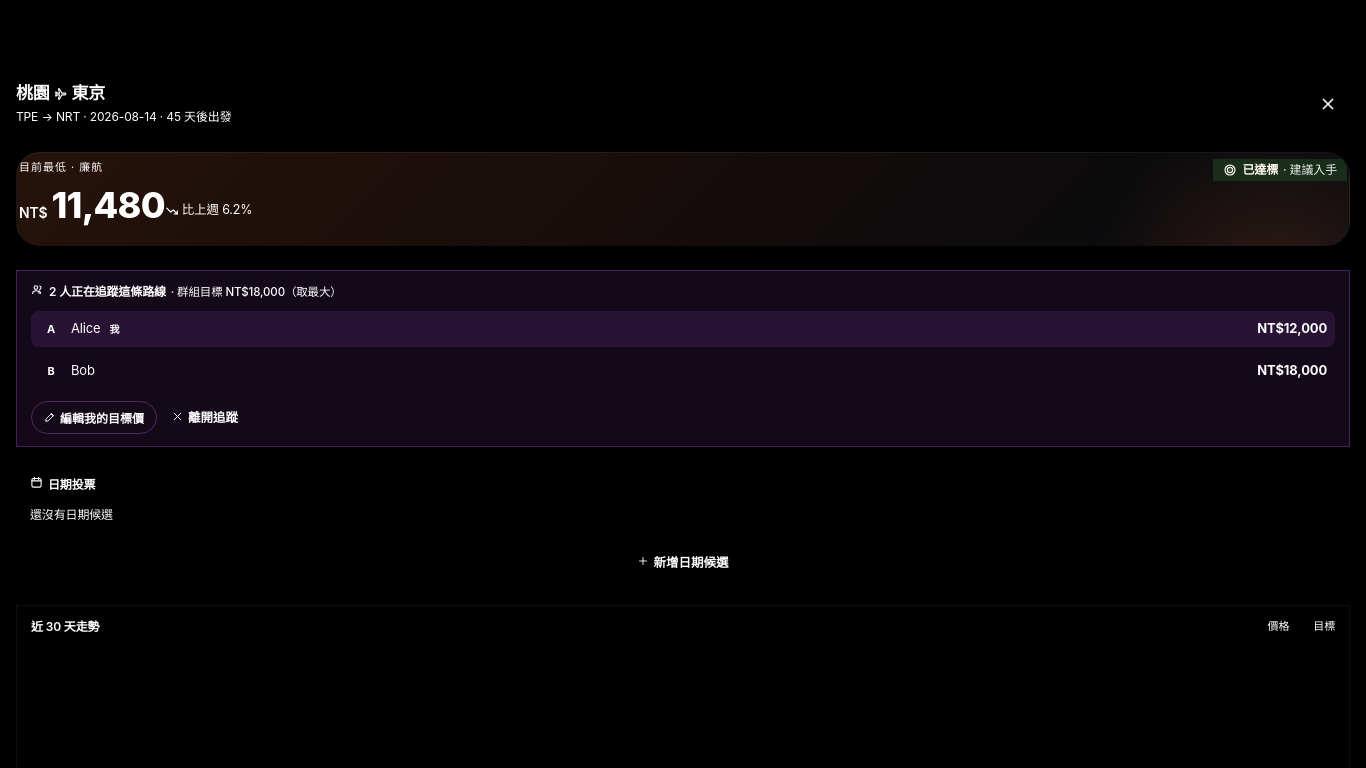
Test: WatchDetailSheet — G2 consensus target + my-target editor › member 點「編輯我的目標」→ 顯示 input + 預填當前值
Click the button with test id "edit-my-target-button" at (94, 417), box [31,400,157,434]
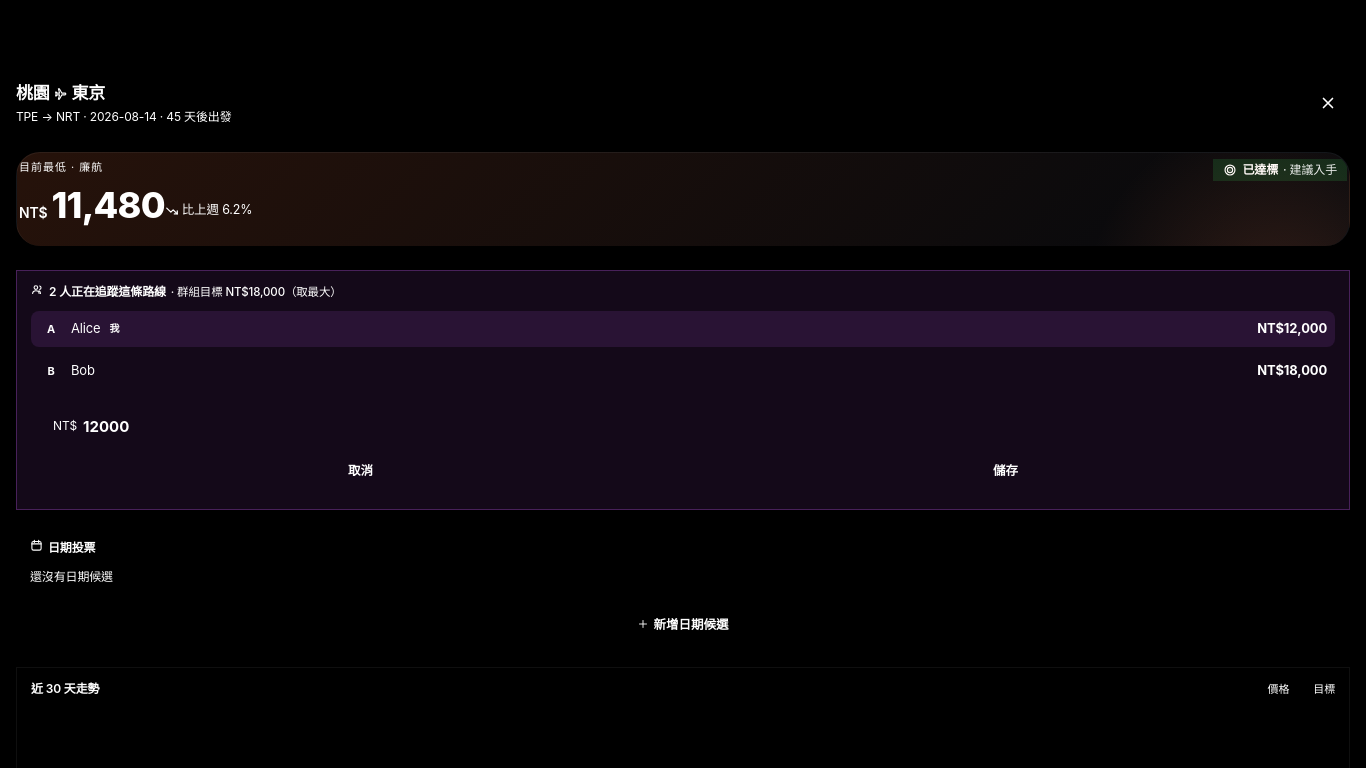
Expected: the element with test id "my-target-editor" is shown, [31,399,1335,497]
Expected: the number field with test id "my-target-input" holds "12000", [83,417,1313,436]
